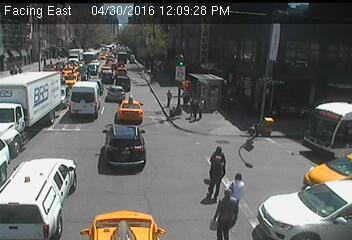pos: (196, 144, 238, 200), (208, 185, 248, 238), (221, 170, 260, 222)
